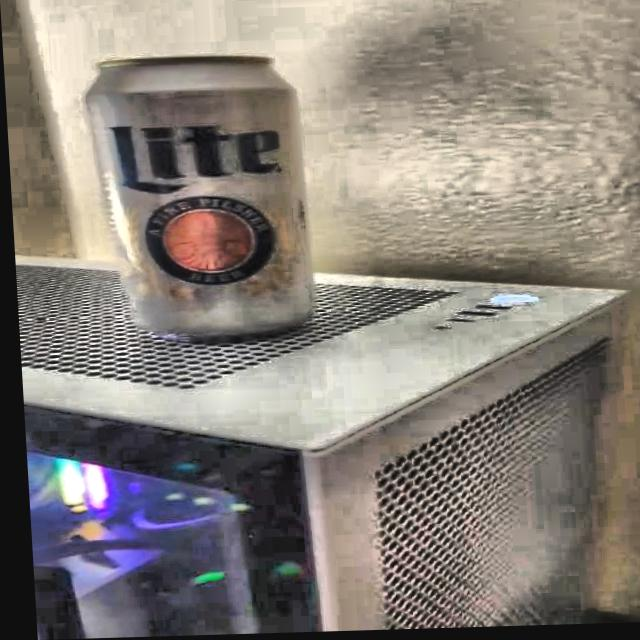can: (78, 49, 329, 351)
